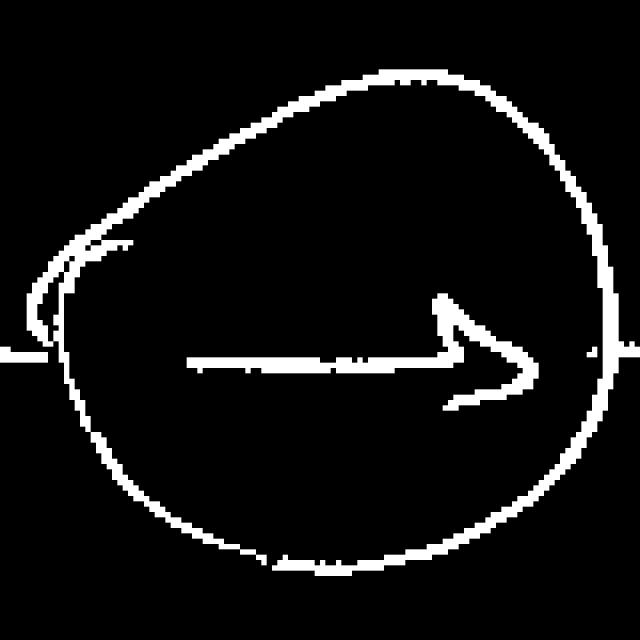current_source: (22, 69, 616, 587)
